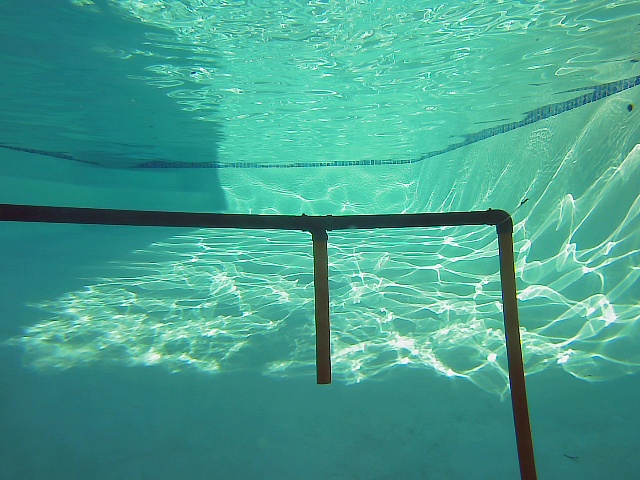Gate: (497, 231, 539, 480), (310, 234, 337, 392)
